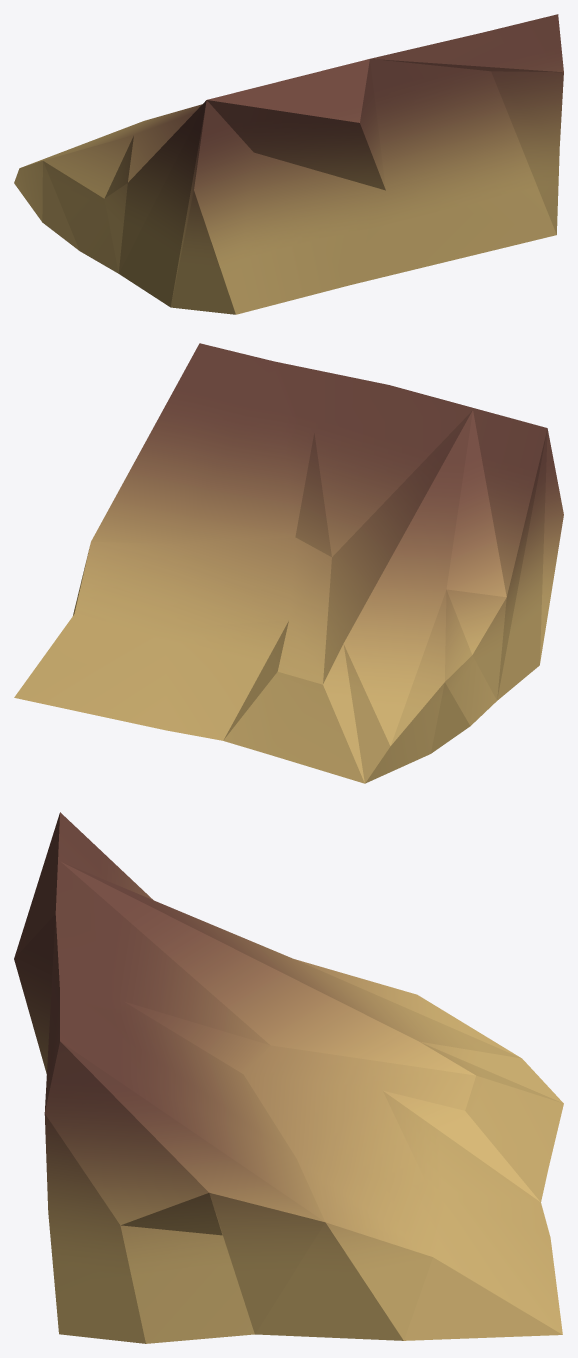
Rendered from Ramp2.fbx.
The picture shows the model from 3 angles, top to bottom: view 1: azimuth 30°, elevation 25°; view 2: azimuth 150°, elevation 25°; view 3: azimuth 270°, elevation 25°; orthographic projection. The views are drawn at different scales.
Visible parts, largest first — view 1: Ramp2; view 2: Ramp2; view 3: Ramp2.
Boxes of the visible parts, x1=… form: Ramp2: x1=14, y1=14, x2=563, y2=314; Ramp2: x1=14, y1=343, x2=563, y2=783; Ramp2: x1=14, y1=812, x2=563, y2=1343.
Size of the model in its own units: 114 by 60.65 by 101.
